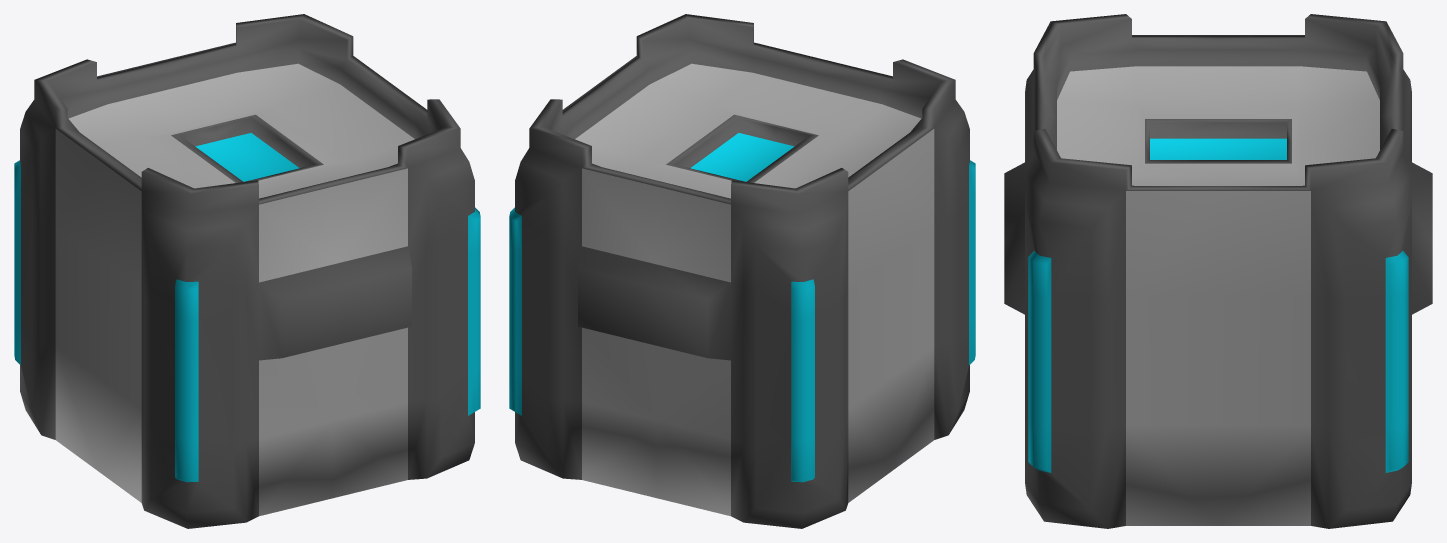
File: supply_box01.fbx
3 renders of one model, left to right at view 1: azimuth 30°, elevation 25°; view 2: azimuth 150°, elevation 25°; view 3: azimuth 270°, elevation 25°, orthographic. The views are drawn at different scales.
Visible parts, largest first — view 1: box_object; view 2: box_object; view 3: box_object.
Boxes of the visible parts, <box> form: box_object: <box>14,14,480,528</box>; box_object: <box>509,14,975,528</box>; box_object: <box>1004,14,1432,528</box>.
Bounding box in the file's own units: 6.04 × 6.13 × 6.68.
